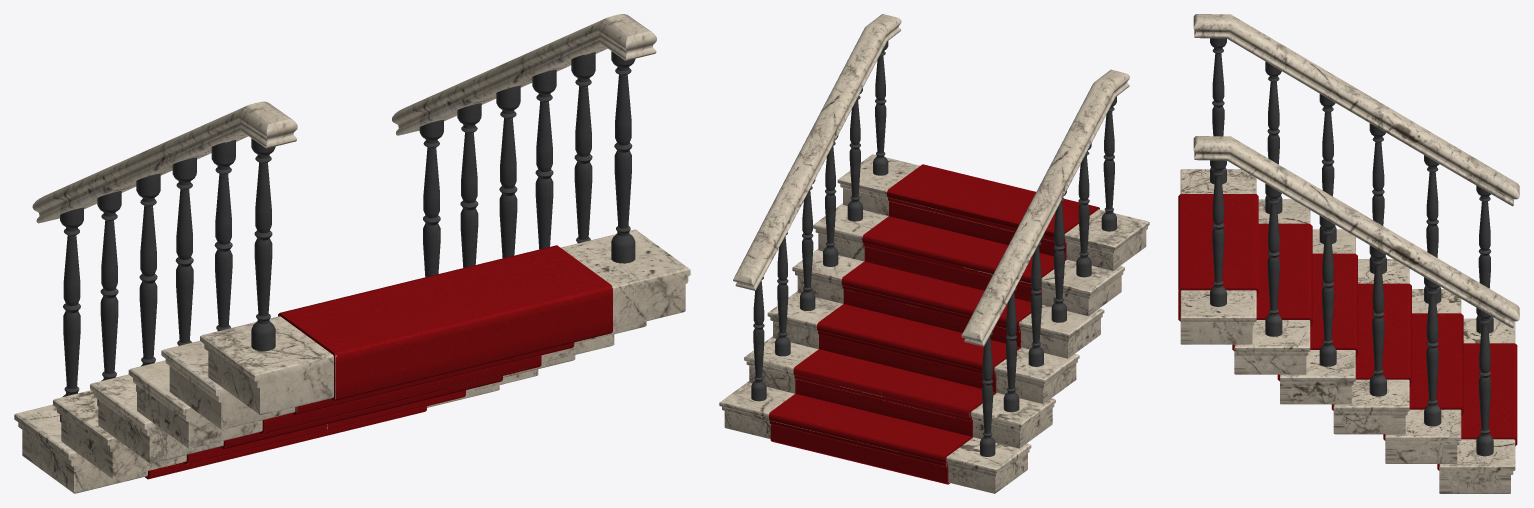
File: cream_marble_stairs_with_red_carpet.glb
The picture shows the model from 3 angles, left to right: view 1: azimuth 30°, elevation 25°; view 2: azimuth 150°, elevation 25°; view 3: azimuth 270°, elevation 25°; orthographic projection. The views are drawn at different scales.
Parts seen in each view (by area): view 1: pCube7, pCube8, pCube9, pCylinder21, pCylinder22, pCylinder15, pCylinder20, pCylinder19, pCylinder13, pCylinder17, pCylinder12, pCylinder18 (+3 smaller); view 2: pCube7, pCube9, pCube8, pCylinder21, pCylinder22, pCylinder19, pCylinder20, pCylinder15, pCylinder17, pCylinder11, pCylinder16, pCylinder12 (+3 smaller); view 3: pCube7, pCube8, pCube9, pCylinder20, pCylinder16, pCylinder22, pCylinder18, pCylinder14, pCylinder11, pCylinder21, pCylinder19, pCylinder15 (+3 smaller).
Part boxes in pixels (box(x1,y1,x2,y2)): pCube7: box(14, 229, 690, 493); pCube8: box(392, 14, 656, 135); pCube9: box(32, 101, 297, 223); pCylinder21: box(251, 138, 275, 351); pCylinder22: box(611, 51, 635, 263); pCylinder15: box(136, 173, 160, 391); pCylinder20: box(571, 52, 595, 243); pCylinder19: box(211, 140, 235, 331); pCylinder13: box(97, 191, 121, 406); pCylinder17: box(172, 157, 196, 345); pCylinder12: box(60, 207, 83, 422); pCylinder18: box(532, 69, 556, 249); pCube7: box(719, 154, 1149, 493); pCube9: box(961, 69, 1129, 346); pCube8: box(733, 14, 901, 290); pCylinder21: box(1101, 96, 1116, 231); pCylinder22: box(873, 41, 888, 175); pCylinder19: box(1076, 143, 1091, 277); pCylinder20: box(847, 88, 862, 221); pCylinder15: box(1028, 234, 1043, 366); pCylinder17: box(1051, 190, 1066, 322); pCylinder11: box(751, 277, 766, 401); pCylinder16: box(800, 179, 815, 310); pCylinder12: box(980, 326, 995, 456); pCube7: box(1178, 169, 1517, 493); pCube8: box(1193, 136, 1519, 328); pCube9: box(1193, 14, 1519, 206); pCylinder20: box(1265, 183, 1282, 336); pCylinder16: box(1369, 245, 1386, 396); pCylinder22: box(1210, 160, 1226, 306); pCylinder18: box(1319, 216, 1336, 366); pCylinder14: box(1424, 277, 1441, 426); pCylinder11: box(1476, 307, 1493, 456); pCylinder21: box(1210, 38, 1226, 184); pCylinder19: box(1265, 61, 1282, 213); pCylinder15: box(1369, 123, 1386, 273).
Bounding box in the file's own units: 0.083 × 0.0904 × 0.0808.
1 material, 1 textured.
